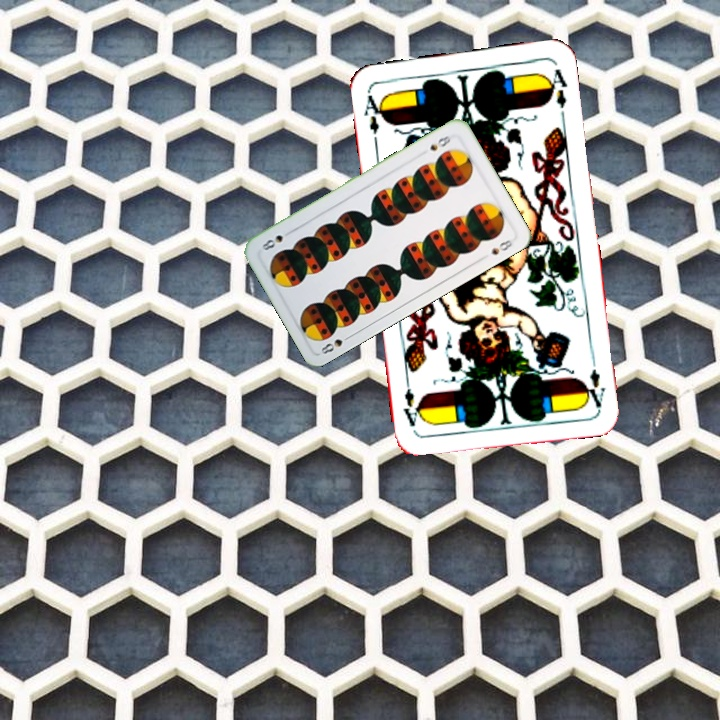EA: (359, 87, 388, 146), (581, 365, 607, 410)
S8: (316, 331, 355, 357), (426, 131, 453, 153)
